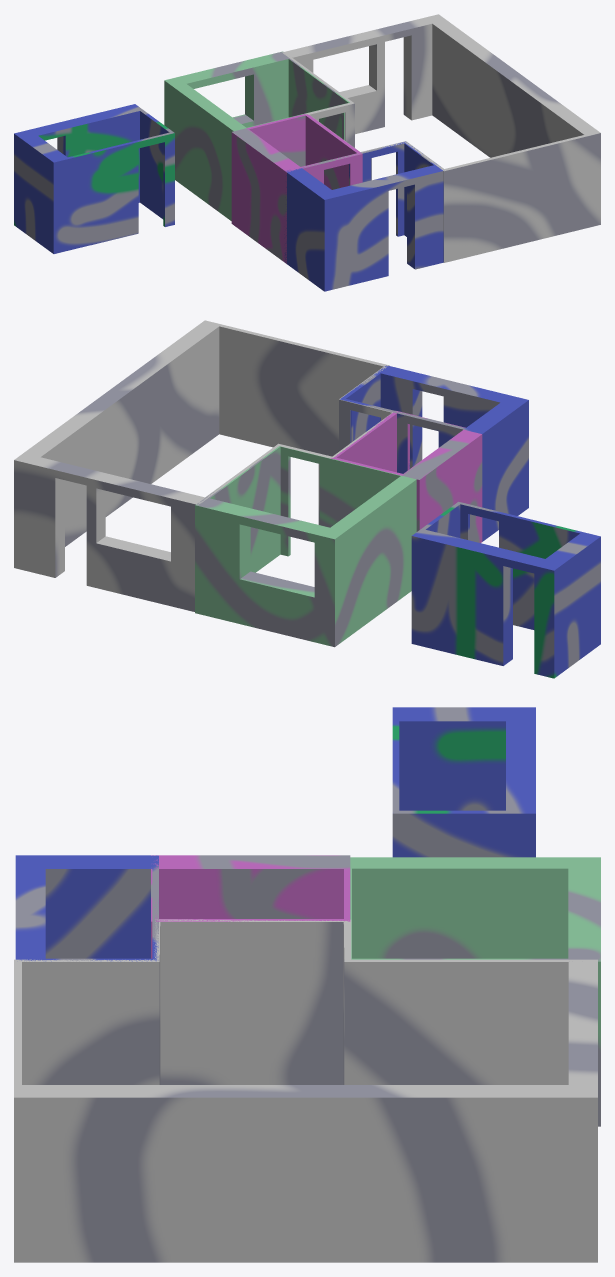
The model's file is flat (3).fbx.
3 views of the same model, one above another, from view 1: azimuth 30°, elevation 25°; view 2: azimuth 150°, elevation 25°; view 3: azimuth 270°, elevation 25° (orthographic). The views are drawn at different scales.
Visible parts, largest first — view 1: room_livingroom.002, room_hallway.004, room_hallway, room_kitchen.002, room_watercloset; view 2: room_livingroom.002, room_kitchen.002, room_hallway.004, room_hallway, room_watercloset; view 3: room_livingroom.002, room_kitchen.002, room_hallway.004, room_hallway, room_watercloset.
Part boxes in pixels (box(x1,y1,x2,y2)): room_livingroom.002: box(282, 14, 600, 262); room_hallway.004: box(14, 104, 174, 253); room_hallway: box(284, 141, 443, 291); room_kitchen.002: box(164, 51, 349, 220); room_watercloset: box(231, 114, 362, 263); room_livingroom.002: box(14, 320, 392, 611); room_kitchen.002: box(195, 446, 416, 647); room_hallway.004: box(411, 501, 600, 678); room_hallway: box(340, 365, 528, 541); room_watercloset: box(331, 410, 482, 542); room_livingroom.002: box(14, 919, 597, 1262); room_kitchen.002: box(350, 857, 600, 1126); room_hallway.004: box(392, 707, 535, 857); room_hallway: box(15, 855, 158, 961); room_watercloset: box(151, 855, 350, 958).
Bounding box in the file's own units: 17.64 × 3.55 × 11.28.
5 materials, 5 textured.
